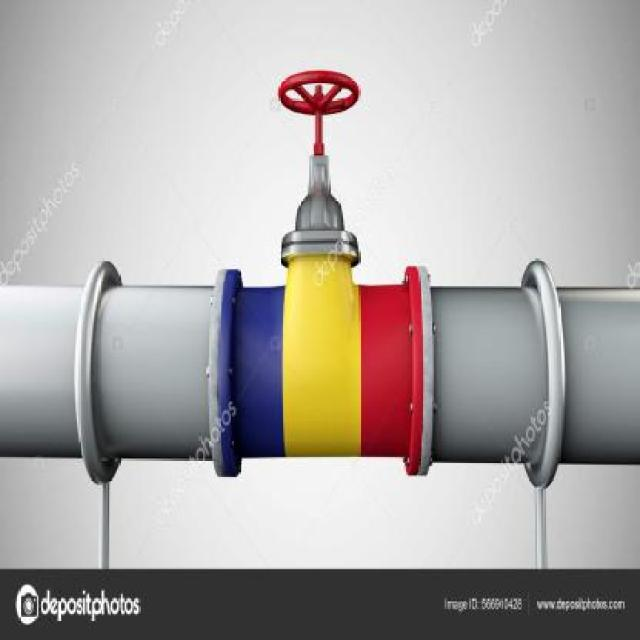gas: (1, 274, 639, 489)
